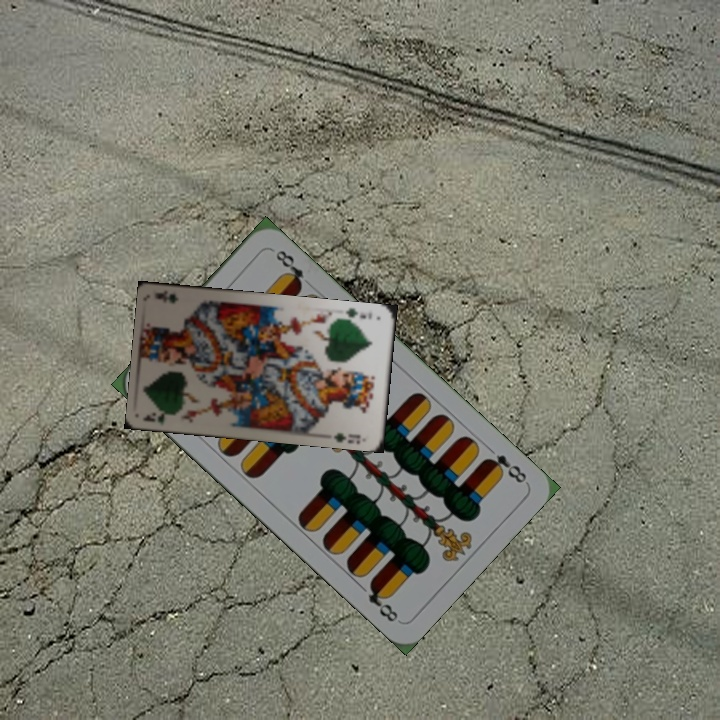E8: (480, 450, 529, 486)
GK: (140, 407, 181, 427), (339, 304, 375, 324)
